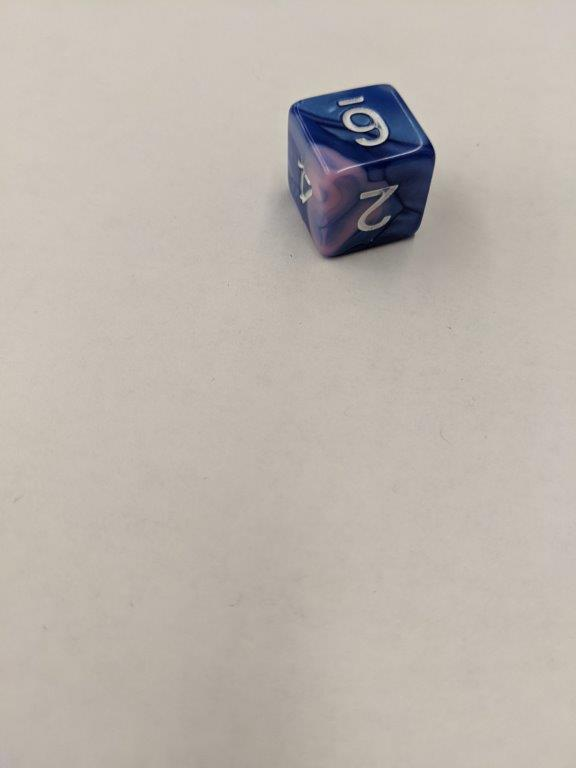d6-6: (287, 81, 436, 253)
